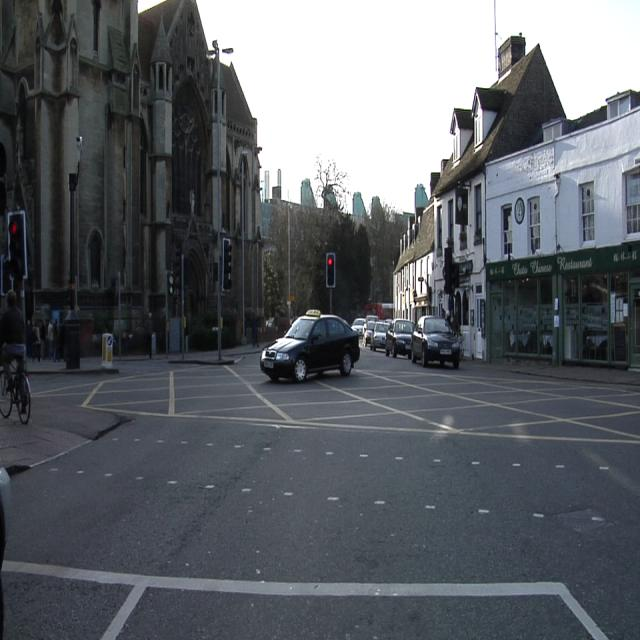Bicyclist: (1, 292, 27, 423)
Building: (1, 3, 262, 356), (390, 37, 563, 358), (487, 89, 639, 367), (263, 156, 393, 325)
Car: (261, 315, 359, 381), (412, 316, 460, 367), (386, 320, 414, 358), (0, 468, 8, 574), (370, 322, 387, 350)
Road: (1, 348, 639, 618)
Tree: (314, 156, 367, 317)
